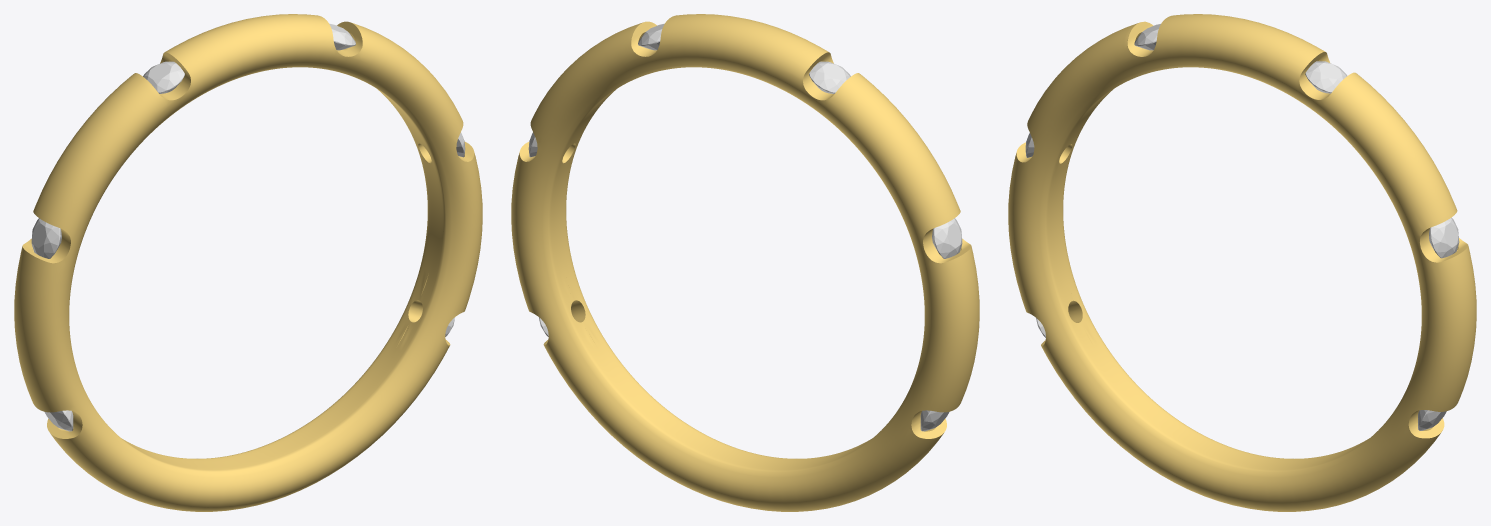
File: LaurynYGv2.glb
3 views of the same model, side by side, from view 1: azimuth 30°, elevation 25°; view 2: azimuth 150°, elevation 25°; view 3: azimuth 330°, elevation 25° (orthographic).
Parts seen in each view (by area): view 1: Lauryn v2 YG for 3d model, Lauryn v2 dia for 3d model.001, Lauryn v2 dia for 3d model.002; view 2: Lauryn v2 YG for 3d model, Lauryn v2 dia for 3d model.001, Lauryn v2 dia for 3d model.002; view 3: Lauryn v2 YG for 3d model, Lauryn v2 dia for 3d model.004, Lauryn v2 dia for 3d model.003.
Boxes of the visible parts, bbox=[...] form: Lauryn v2 YG for 3d model: bbox=[14, 14, 482, 511]; Lauryn v2 dia for 3d model.001: bbox=[31, 218, 61, 258]; Lauryn v2 dia for 3d model.002: bbox=[143, 61, 184, 93]; Lauryn v2 YG for 3d model: bbox=[511, 14, 979, 511]; Lauryn v2 dia for 3d model.001: bbox=[932, 218, 962, 258]; Lauryn v2 dia for 3d model.002: bbox=[809, 61, 850, 93]; Lauryn v2 YG for 3d model: bbox=[1008, 14, 1476, 511]; Lauryn v2 dia for 3d model.004: bbox=[1429, 217, 1459, 258]; Lauryn v2 dia for 3d model.003: bbox=[1305, 61, 1347, 93].
Bounding box in the file's own units: 19.9 × 19.9 × 2.3.
